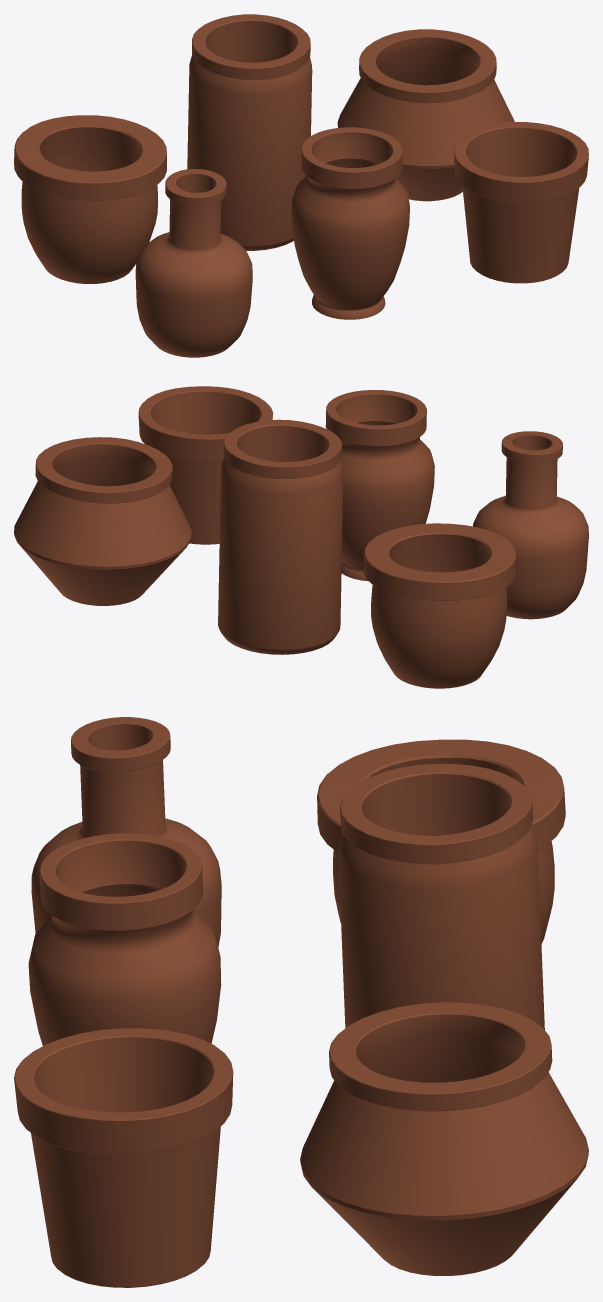
File: Clay Pot.fbx
The picture shows the model from 3 angles, top to bottom: view 1: azimuth 30°, elevation 25°; view 2: azimuth 150°, elevation 25°; view 3: azimuth 270°, elevation 25°; orthographic projection. The views are drawn at different scales.
Parts seen in each view (by area): view 1: Pot5, Pot4, Pot2, Pot6, Pot3, Pot1; view 2: Pot5, Pot6, Pot4, Pot2, Pot1, Pot3; view 3: Pot6, Pot5, Pot3, Pot2, Pot1, Pot4.
Part boxes in pixels (bbox=[...]): Pot5: bbox=[187, 14, 312, 250]; Pot4: bbox=[14, 115, 166, 283]; Pot2: bbox=[291, 127, 409, 319]; Pot6: bbox=[337, 29, 514, 201]; Pot3: bbox=[454, 122, 588, 283]; Pot1: bbox=[135, 169, 252, 357]; Pot5: bbox=[218, 419, 343, 654]; Pot6: bbox=[14, 437, 191, 605]; Pot4: bbox=[363, 523, 516, 688]; Pot2: bbox=[325, 390, 434, 581]; Pot1: bbox=[473, 431, 588, 619]; Pot3: bbox=[138, 386, 273, 544]; Pot6: bbox=[300, 1002, 588, 1275]; Pot5: bbox=[338, 763, 544, 1029]; Pot3: bbox=[14, 1028, 233, 1287]; Pot2: bbox=[28, 833, 221, 1045]; Pot1: bbox=[31, 717, 221, 947]; Pot4: bbox=[317, 739, 565, 943].
Size of the model in its own units: 210 by 82.54 by 134.
